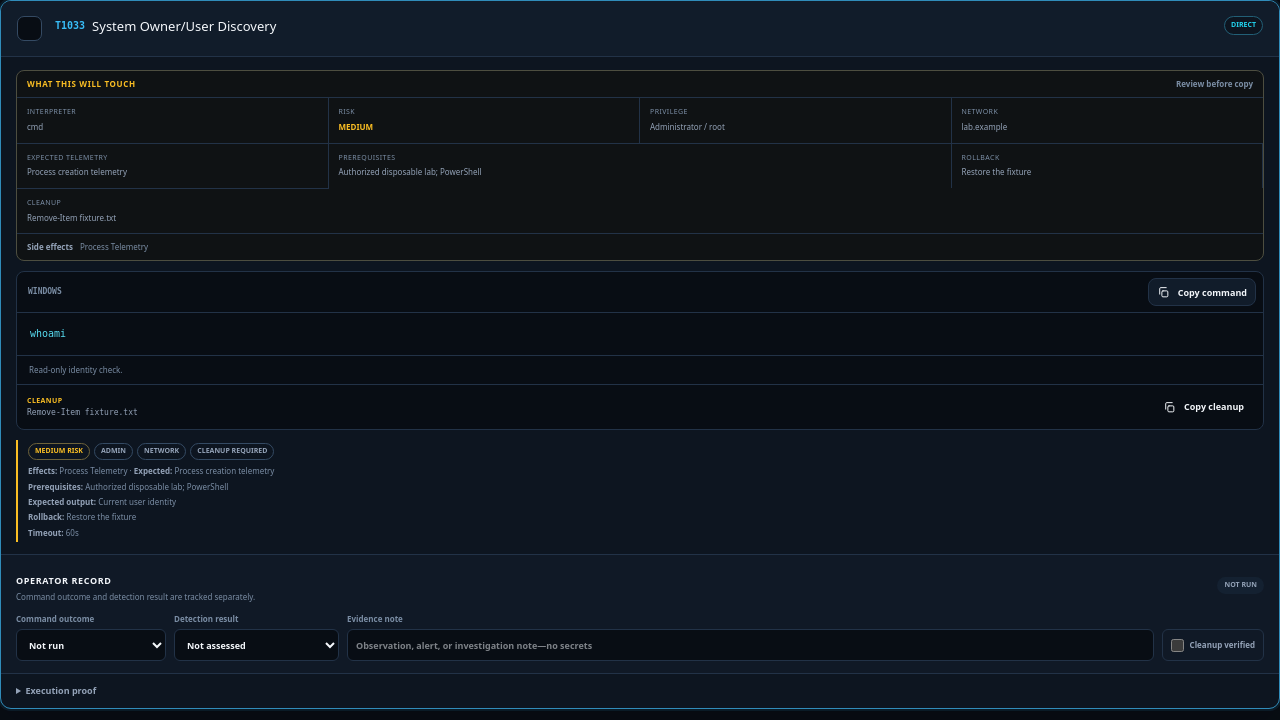
Test case: TechniqueCard › shows the bounded exercise's technique-specific independent telemetry criteria
The width and height of the screenshot is (1280, 720).
Click the heading "Execution proof": (61, 691) [26, 684, 96, 697]
(page scrolled)
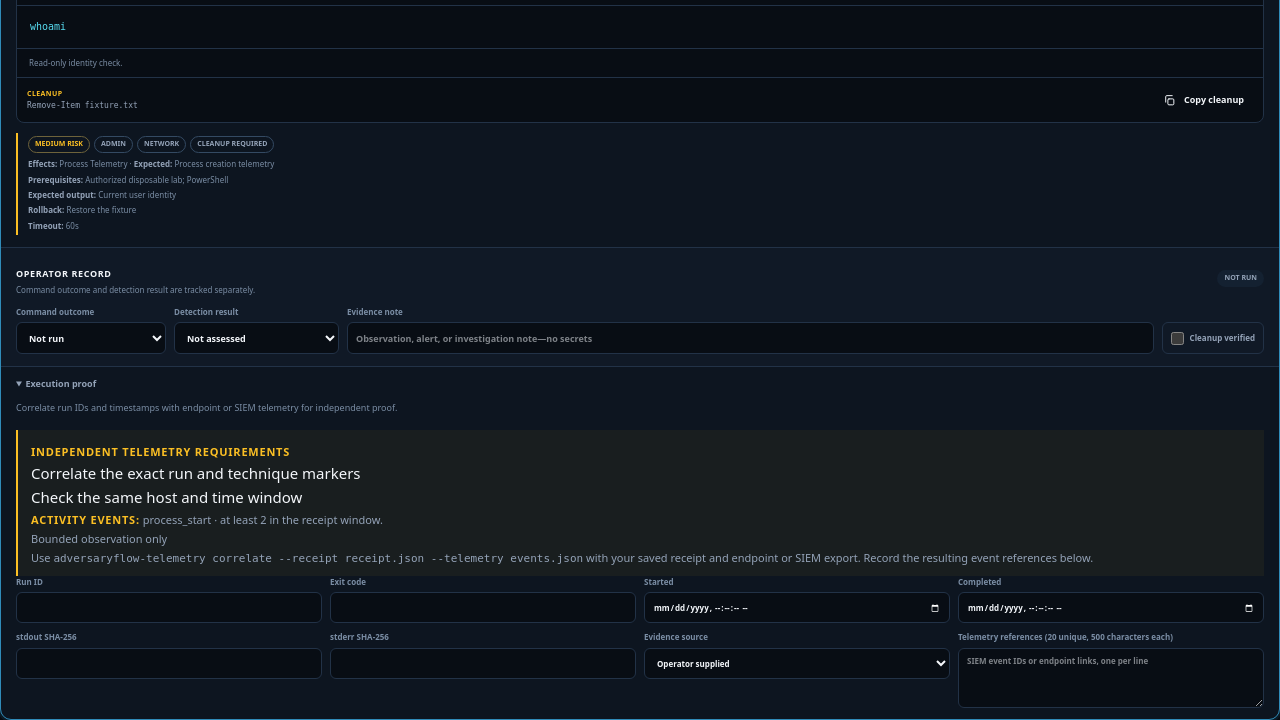
Now the element named "Independent telemetry requirements for T1033" shows "at least 2 in the receipt window", box [16, 430, 1264, 576]
Now the element named "Independent telemetry requirements for T1033" shows "process_start", box [143, 512, 211, 527]
Now the element named "Independent telemetry requirements for T1033" shows "Bounded observation only", box [31, 531, 167, 546]
